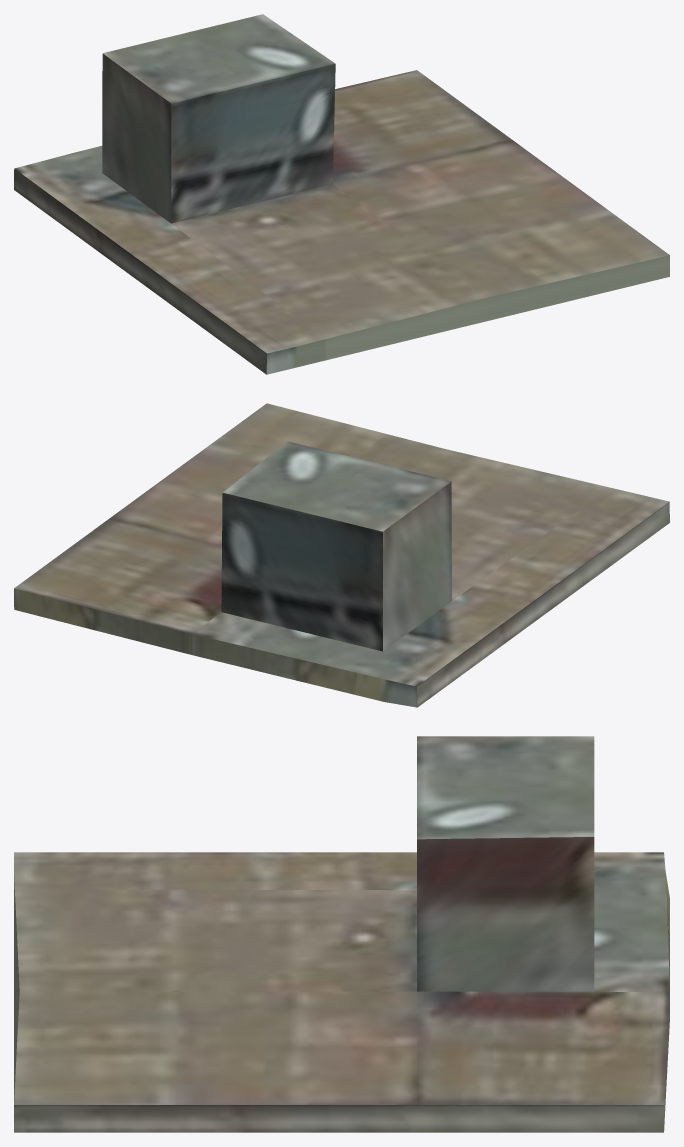
The picture shows the model from 3 angles, top to bottom: view 1: azimuth 30°, elevation 25°; view 2: azimuth 150°, elevation 25°; view 3: azimuth 270°, elevation 25°; orthographic projection. The views are drawn at different scales.
Parts seen in each view (by area): view 1: orto-edificio22-completo.052; view 2: orto-edificio22-completo.052; view 3: orto-edificio22-completo.052.
Boxes of the visible parts, left/top/right/bottom form: orto-edificio22-completo.052: left=14, top=14, right=669, bottom=374; orto-edificio22-completo.052: left=14, top=403, right=669, bottom=707; orto-edificio22-completo.052: left=14, top=736, right=669, bottom=1132.
Size of the model in its own units: 1.9 by 0.6382 by 2.08.
Materials: 2 (2 with a texture image).
